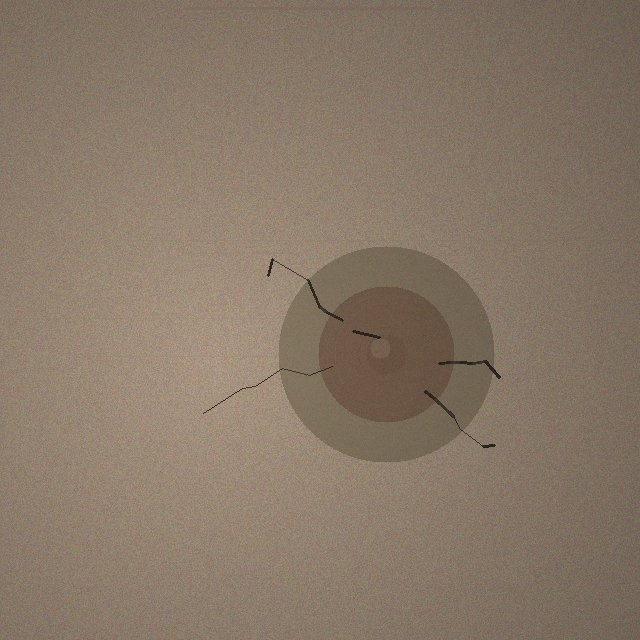crack: (278, 246, 494, 462)
